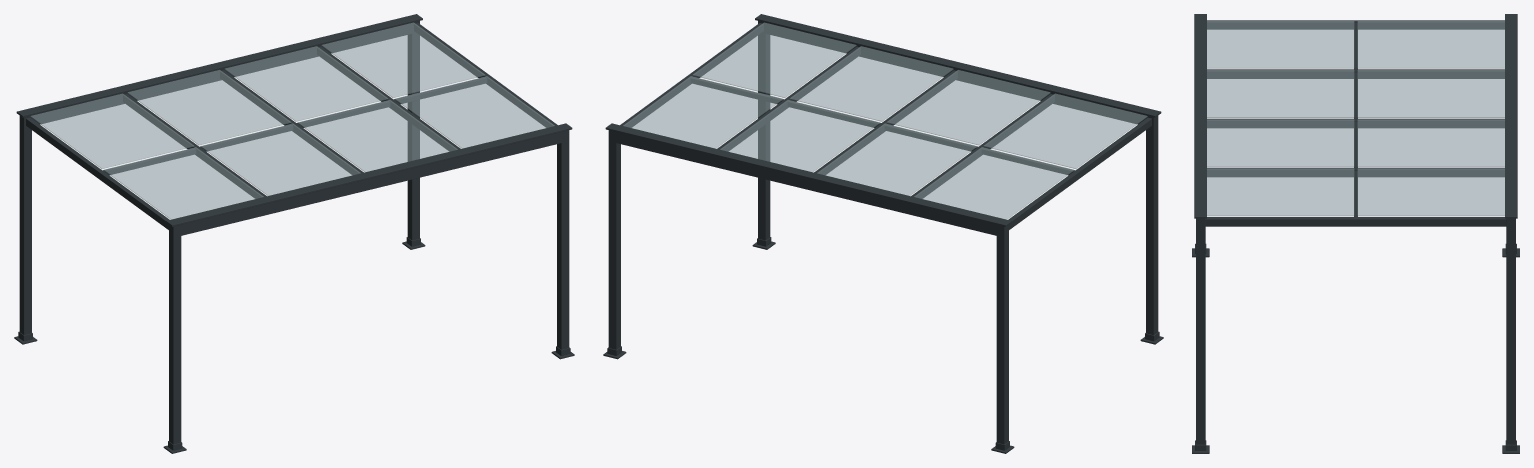
File: canopy_pergola_46caa817.glb
The picture shows the model from 3 angles, left to right: view 1: azimuth 30°, elevation 25°; view 2: azimuth 150°, elevation 25°; view 3: azimuth 270°, elevation 25°; orthographic projection. The views are drawn at different scales.
Parts seen in each view (by area): view 1: PV_roof_13_0, PV_roof_11_0, PV_roof_12_0, PV_roof_14_0, edge_cap (×2), PV_roof_12_2, PV_roof_11_2, PV_roof_14_2, PV_roof_13_2, edge_beam_5, edge_beam_4, column_1 (+9 smaller); view 2: PV_roof_13_2, PV_roof_11_2, PV_roof_12_2, PV_roof_14_2, edge_cap (×2), PV_roof_12_0, PV_roof_11_0, PV_roof_14_0, PV_roof_13_0, edge_beam_4, edge_beam_5, column_0 (+9 smaller); view 3: PV_roof_14_0, PV_roof_14_2, PV_roof_12_0, PV_roof_12_2, PV_roof_11_0, PV_roof_11_2, PV_roof_13_0, PV_roof_13_2, edge_cap (×2), rafter_8, rafter_9, rafter_10 (+5 smaller).
Boxes of the visible parts, x1,y1,x2,y2 form: PV_roof_13_0: (224,46,387,121); PV_roof_11_0: (30,93,193,168); PV_roof_12_0: (127,70,291,145); PV_roof_14_0: (321,22,484,97); edge_cap (×2): (16,14,572,226); PV_roof_12_2: (200,123,360,195); PV_roof_11_2: (104,147,263,219); PV_roof_14_2: (395,76,554,148); PV_roof_13_2: (298,100,457,172); edge_beam_5: (169,130,569,236); edge_beam_4: (19,21,419,127); column_1: (169,229,181,444); PV_roof_13_2: (790,46,953,121); PV_roof_11_2: (984,93,1147,168); PV_roof_12_2: (886,70,1050,145); PV_roof_14_2: (693,22,856,97); edge_cap (×2): (605,14,1161,226); PV_roof_12_0: (817,123,977,195); PV_roof_11_0: (914,147,1073,219); PV_roof_14_0: (623,76,782,148); PV_roof_13_0: (720,100,879,172); edge_beam_4: (608,130,1008,236); edge_beam_5: (758,21,1158,126); column_0: (996,229,1008,444); PV_roof_14_0: (1357,168,1504,216); PV_roof_14_2: (1207,168,1354,216); PV_roof_12_0: (1357,70,1504,117); PV_roof_12_2: (1207,70,1354,117); PV_roof_11_0: (1357,21,1504,68); PV_roof_11_2: (1207,21,1354,68); PV_roof_13_0: (1357,119,1504,166); PV_roof_13_2: (1207,119,1354,166); edge_cap (×2): (1194,14,1517,218); rafter_8: (1207,118,1504,128); rafter_9: (1207,167,1504,177); rafter_10: (1205,217,1506,226).
Bounding box in the file's own units: 4.98 × 2.69 × 3.38.
